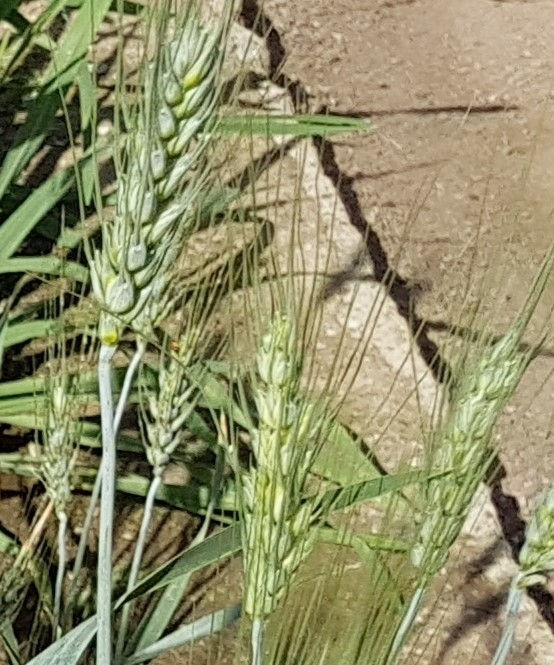Healthy Wheat: (84, 32, 229, 314), (400, 332, 536, 569), (237, 297, 326, 613)
